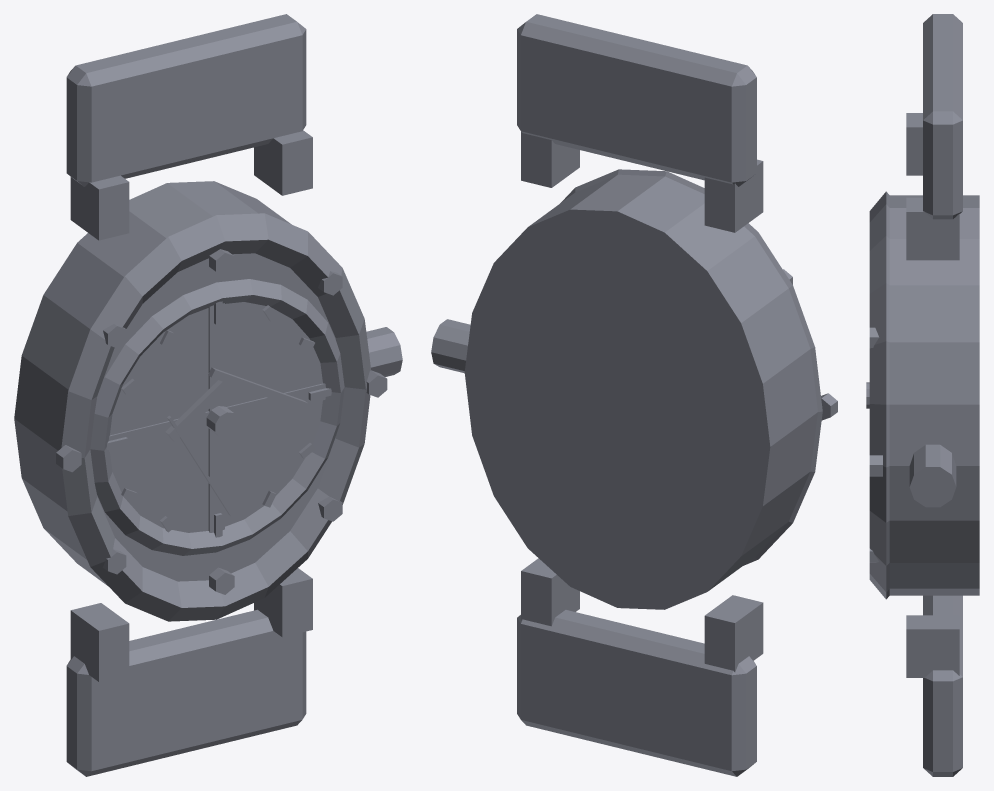
File: rlj_rm11.fbx
3 views of the same model, side by side, from view 1: azimuth 30°, elevation 25°; view 2: azimuth 150°, elevation 25°; view 3: azimuth 270°, elevation 25° (orthographic). The views are drawn at different scales.
Parts seen in each view (by area): view 1: Caja__esmalte_negro, Caja__metal_acero, Esfera__metal_acero, Manecillas__metal_acero, Esfera__esmalte_blanco; view 2: Caja__esmalte_negro, Caja__metal_acero; view 3: Caja__esmalte_negro, Caja__metal_acero.
Part boxes in pixels (x1,y1,x2,y2): Caja__esmalte_negro: (14, 14, 402, 776); Caja__metal_acero: (56, 213, 387, 621); Esfera__metal_acero: (90, 279, 344, 555); Manecillas__metal_acero: (165, 367, 307, 441); Esfera__esmalte_blanco: (107, 301, 331, 537); Caja__esmalte_negro: (431, 14, 817, 776); Caja__metal_acero: (560, 169, 837, 565); Caja__esmalte_negro: (889, 14, 979, 776); Caja__metal_acero: (869, 191, 889, 599).
Size of the model in its own units: 118 by 220 by 34.
